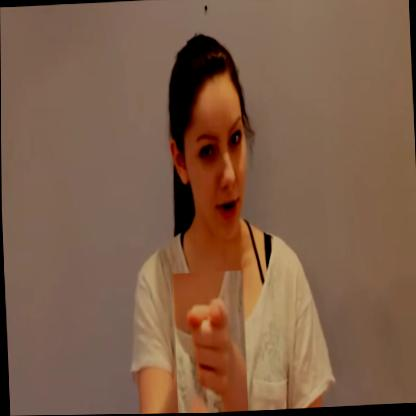HowAreYou: (172, 271, 247, 414)
